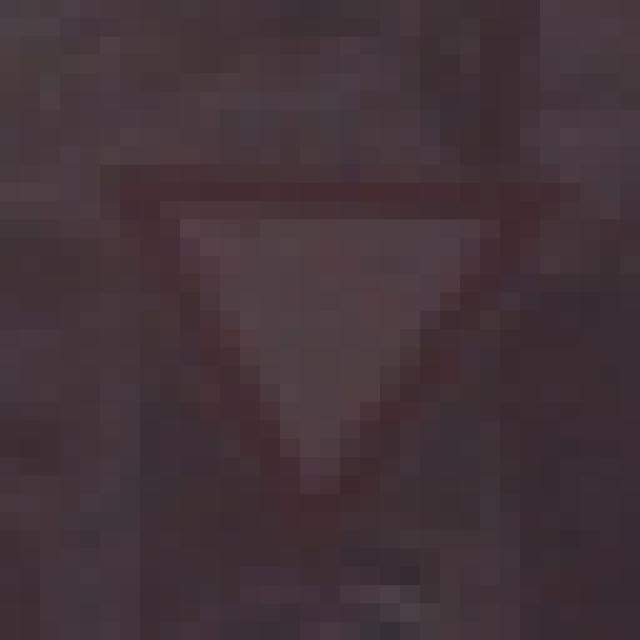Give Way: (101, 111, 541, 550)
